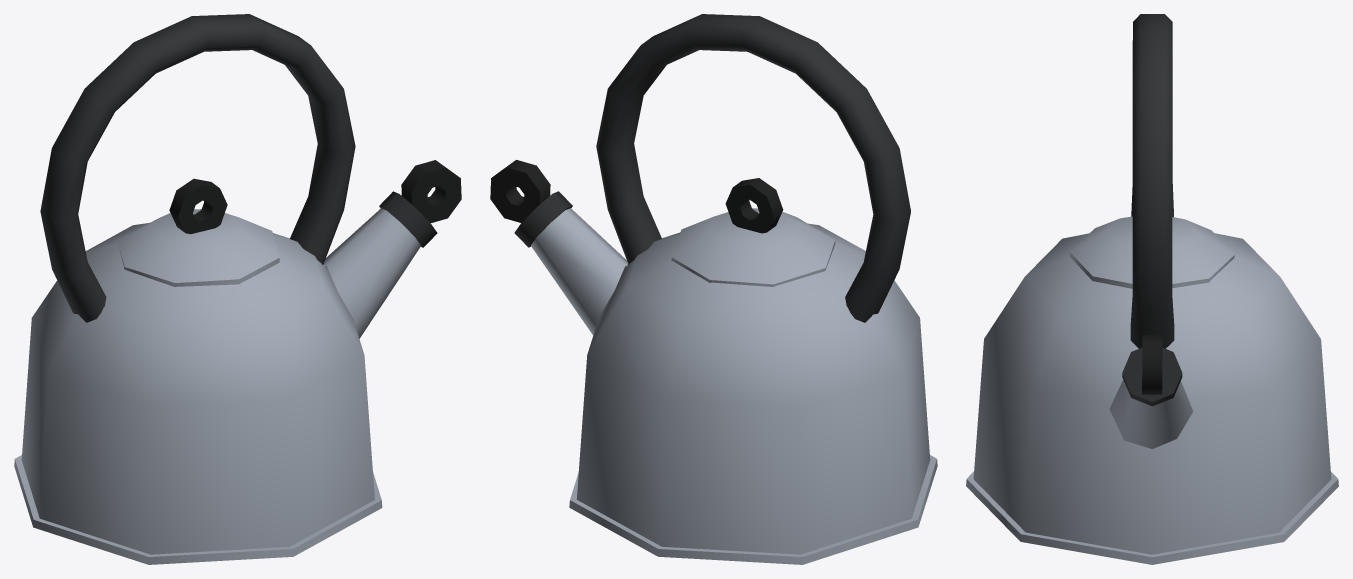
The model's file is Kettle animated.glb.
3 views of the same model, side by side, from view 1: azimuth 30°, elevation 25°; view 2: azimuth 150°, elevation 25°; view 3: azimuth 270°, elevation 25° (orthographic). The views are drawn at different scales.
Visible parts, largest first — view 1: misc kettle, misc kettle cover, misc kettle nozzle; view 2: misc kettle, misc kettle cover, misc kettle nozzle; view 3: misc kettle, misc kettle cover, misc kettle nozzle.
Part boxes in pixels (<box>): misc kettle: <box>14,14,420,564</box>; misc kettle cover: <box>117,178,279,286</box>; misc kettle nozzle: <box>379,160,461,247</box>; misc kettle: <box>531,14,937,564</box>; misc kettle cover: <box>671,178,835,286</box>; misc kettle nozzle: <box>490,160,572,247</box>; misc kettle: <box>966,14,1338,564</box>; misc kettle cover: <box>1069,216,1234,288</box>; misc kettle nozzle: <box>1122,334,1182,406</box>.
Size of the model in its own units: 6.01 by 6.34 by 4.69.
Materials: 1 (1 with a texture image).
